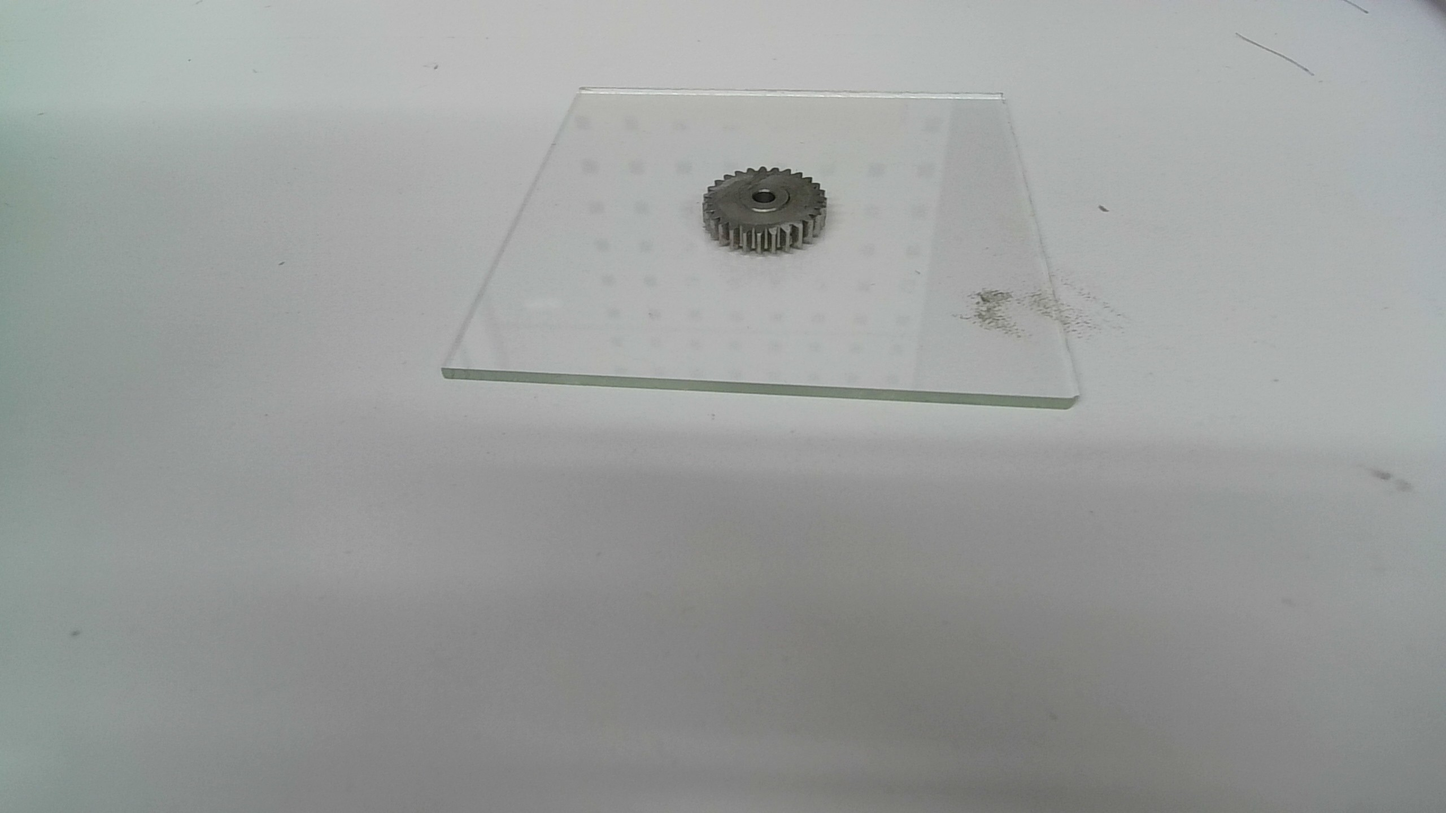gear: (699, 164, 832, 257)
